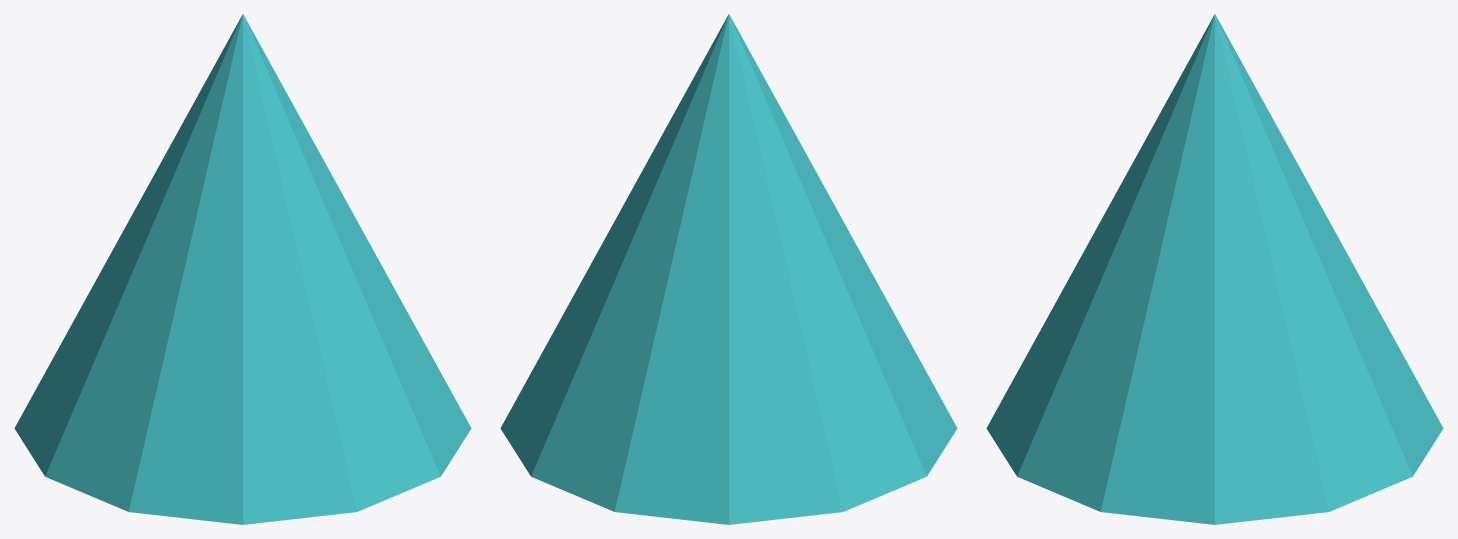
The picture shows the model from 3 angles, left to right: view 1: azimuth 30°, elevation 25°; view 2: azimuth 150°, elevation 25°; view 3: azimuth 270°, elevation 25°; orthographic projection.
Visible parts, largest first — view 1: Cone; view 2: Cone; view 3: Cone.
Boxes of the visible parts, x1=… form: Cone: x1=14, y1=14, x2=471, y2=524; Cone: x1=500, y1=14, x2=957, y2=524; Cone: x1=986, y1=14, x2=1443, y2=524.
Bounding box in the file's own units: 100 × 100 × 100.
